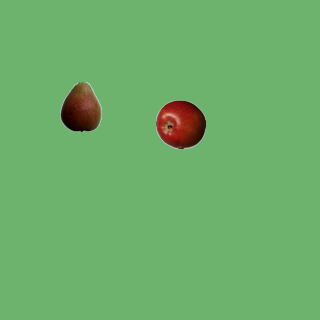Apple Braeburn: (155, 99, 205, 149)
Pear Forelle: (55, 81, 105, 131)
